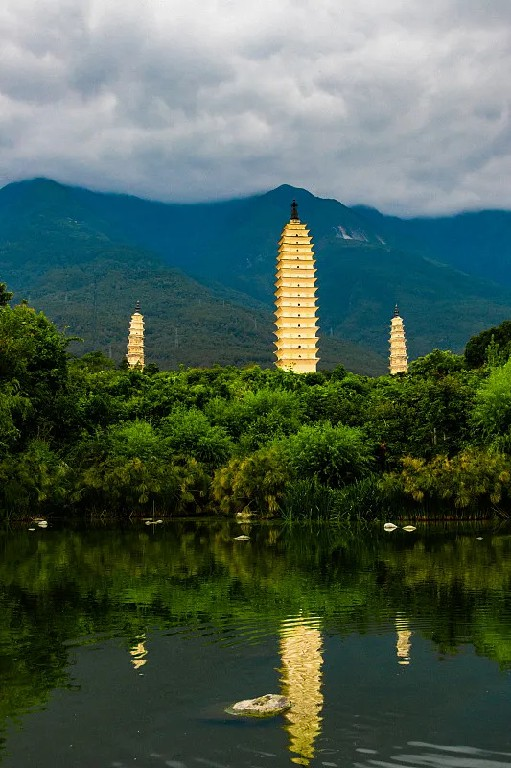ThreePagoda: (272, 199, 319, 373)
